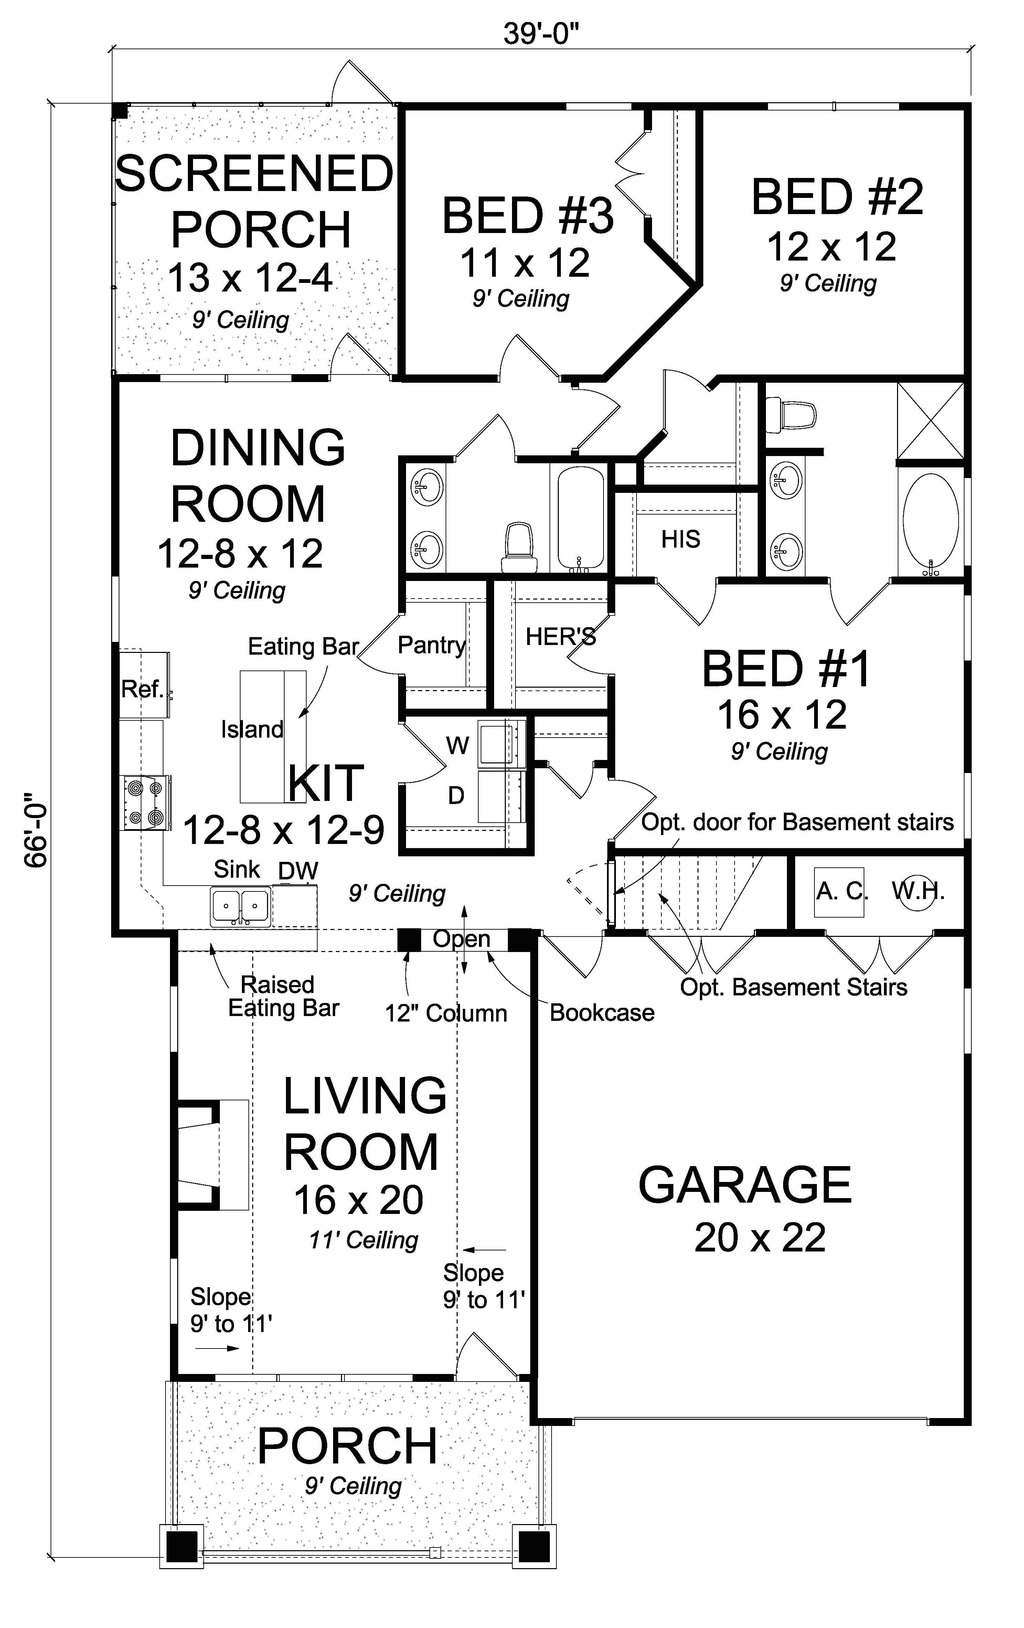door: (317, 320, 409, 392), (563, 605, 635, 680), (444, 1317, 521, 1384), (635, 933, 748, 979), (645, 369, 720, 438), (827, 930, 925, 982), (820, 571, 891, 635), (558, 385, 622, 453), (317, 55, 394, 112), (361, 612, 420, 684), (608, 120, 654, 212), (543, 930, 621, 982), (458, 415, 534, 466), (658, 575, 726, 625), (389, 735, 453, 785), (490, 328, 553, 376), (543, 751, 608, 797), (612, 785, 661, 838)
kitchen_bar: (217, 658, 320, 802)
large_sink: (753, 382, 836, 444), (486, 507, 553, 579)
small_sink: (746, 448, 814, 571), (402, 453, 448, 571)
tub: (540, 458, 608, 589), (894, 461, 963, 576)
twin_sink: (209, 884, 284, 925)
window: (761, 79, 914, 130), (945, 976, 984, 1069), (953, 584, 979, 671)
